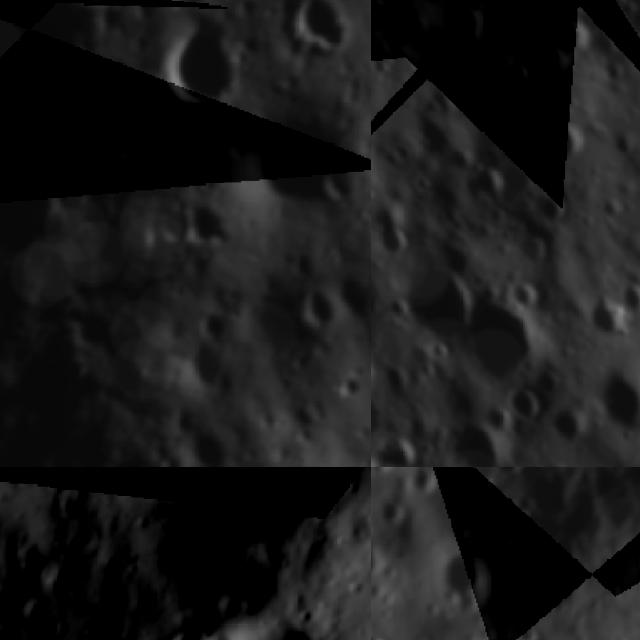crater: (131, 467, 371, 571), (245, 110, 362, 210), (183, 578, 363, 640), (156, 15, 245, 110), (399, 248, 485, 333), (39, 88, 122, 175), (436, 539, 496, 613), (541, 1, 601, 62), (180, 189, 234, 256), (430, 0, 498, 51), (289, 0, 349, 56), (537, 105, 592, 161), (582, 281, 637, 337), (293, 278, 345, 333), (175, 339, 226, 394), (149, 196, 195, 255), (522, 183, 574, 235), (334, 260, 371, 323), (182, 424, 233, 467), (371, 211, 412, 263), (501, 273, 545, 319), (375, 489, 417, 536), (380, 426, 428, 467), (330, 360, 368, 411), (503, 382, 546, 427), (151, 613, 217, 640), (193, 307, 235, 349), (528, 42, 568, 84), (397, 467, 444, 501), (0, 467, 17, 532), (101, 448, 154, 467), (502, 58, 533, 88), (371, 527, 383, 581), (486, 467, 524, 481), (371, 467, 409, 476), (371, 0, 391, 16)
